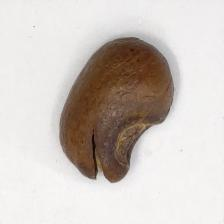NG: (87, 109, 164, 184)
